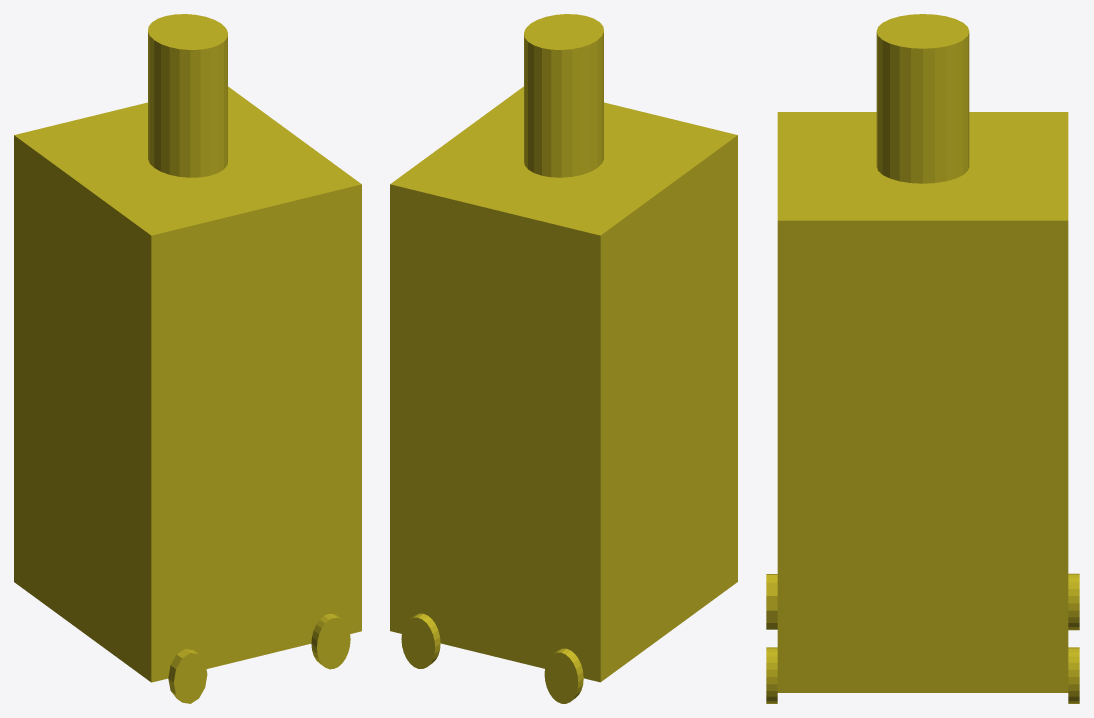
Rendered from pr_jaune-old.dae.
3 renders of one model, left to right at view 1: azimuth 30°, elevation 25°; view 2: azimuth 150°, elevation 25°; view 3: azimuth 270°, elevation 25°, orthographic. The views are drawn at different scales.
Parts seen in each view (by area): view 1: Group37; view 2: Group37; view 3: Group37.
Part boxes in pixels (box(x1,y1,x2,y2)): Group37: box(14, 14, 361, 703); Group37: box(390, 14, 737, 703); Group37: box(766, 14, 1079, 703).
Size of the model in its own units: 0.1843 by 0.225 by 0.5022.
